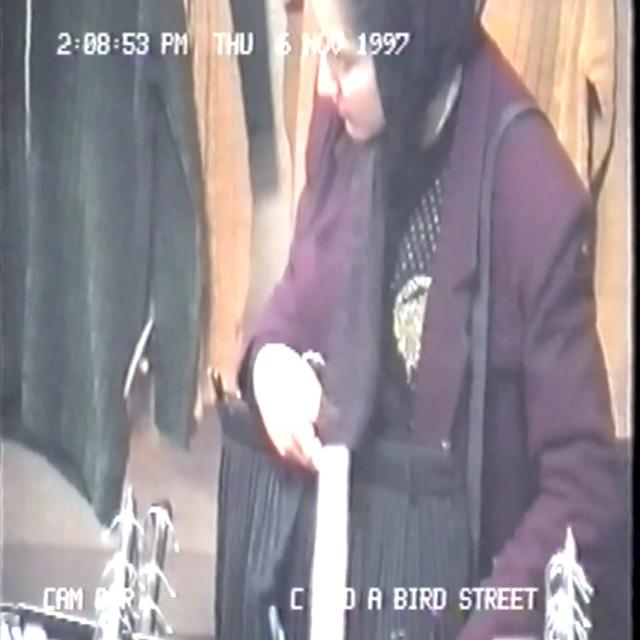Product: (209, 436, 445, 636)
shoplifting: (203, 0, 636, 640)
